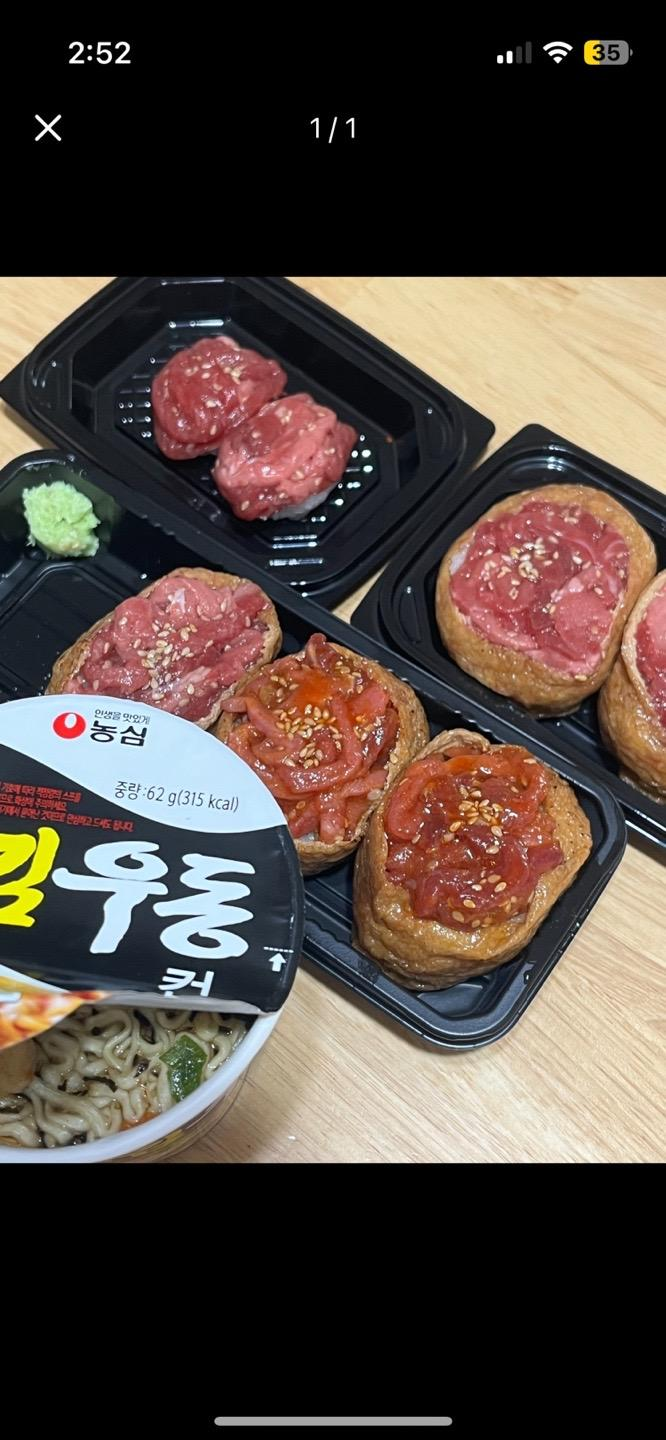Lunch Box: (0, 450, 626, 1048), (0, 277, 492, 602), (0, 694, 303, 1164), (355, 425, 665, 852)
